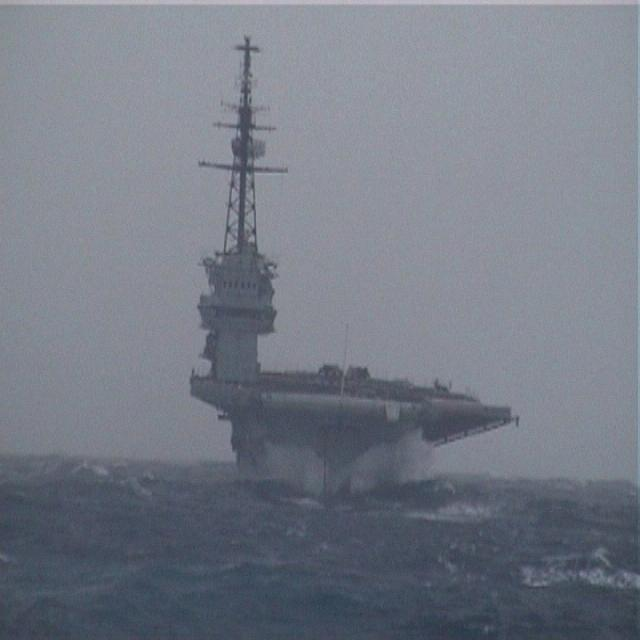Portanaves: (189, 28, 524, 529)
